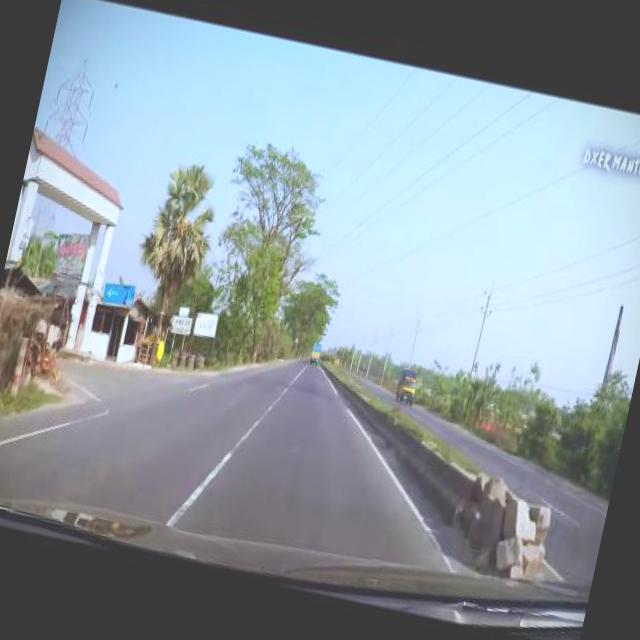truck: (392, 364, 419, 406), (307, 338, 322, 365)
